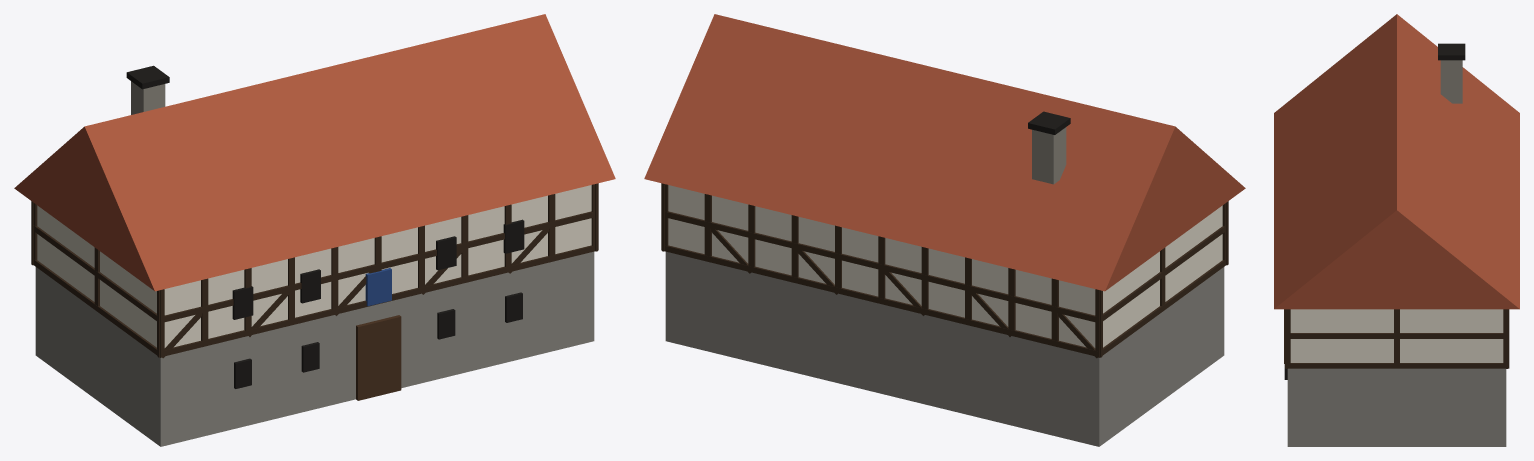
The model's file is barracks.glb.
3 views of the same model, side by side, from view 1: azimuth 30°, elevation 25°; view 2: azimuth 150°, elevation 25°; view 3: azimuth 270°, elevation 25° (orthographic). The views are drawn at different scales.
Parts seen in each view (by area): view 1: Barracks; view 2: Barracks; view 3: Barracks.
Boxes of the visible parts, box(x1,y1,x2,y2) form: Barracks: box(14, 14, 615, 446); Barracks: box(644, 14, 1245, 446); Barracks: box(1274, 14, 1519, 446).
Bounding box in the file's own units: 17 × 10 × 9.
